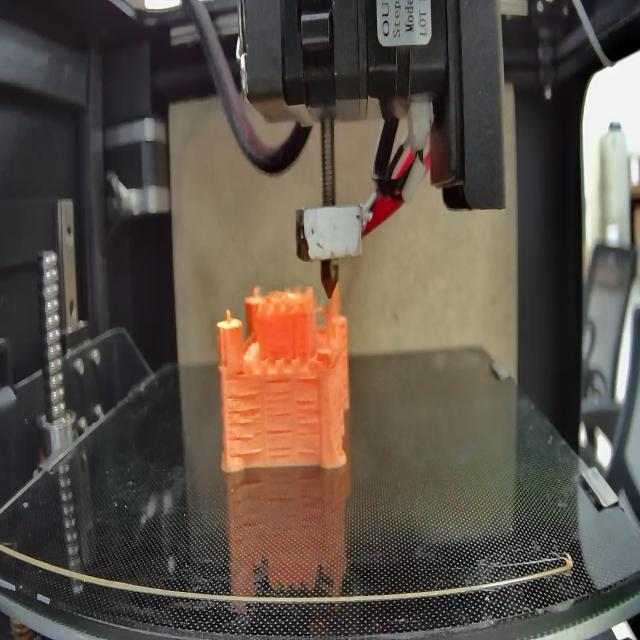cracks: (228, 391, 261, 458), (299, 393, 320, 460), (265, 378, 292, 420), (265, 426, 293, 459), (231, 365, 246, 379), (297, 374, 320, 383)
